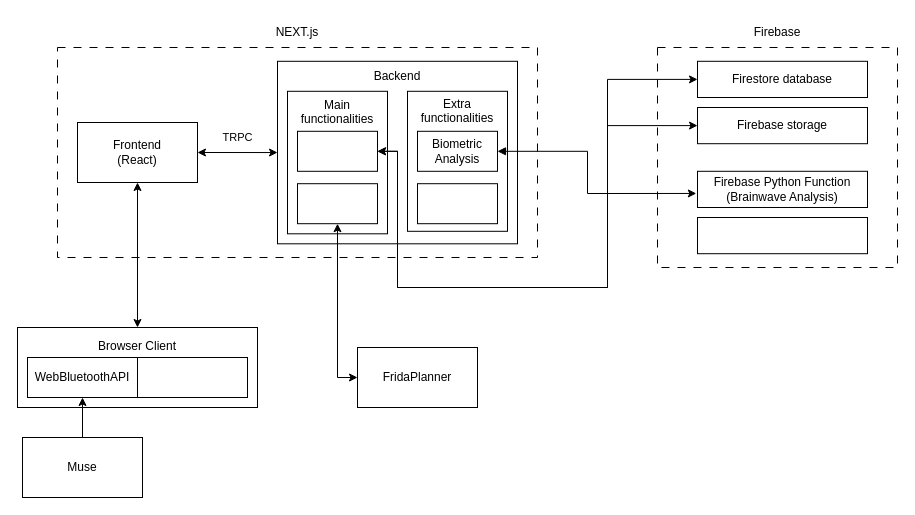
Some shapes in this 915 by 515 pixel diagram are drawn without their labels. Here are the shapes that lost their labels. From the top down, the centre of each, then its label:
At (337,150): "Project management".
At (337,203): "AI Generations".
At (457,203): "Sentiment Analysis".
At (782,235): "Firebase Python Function (Sentiment Analysis)".
At (192,377): "SpeechRecognition".
